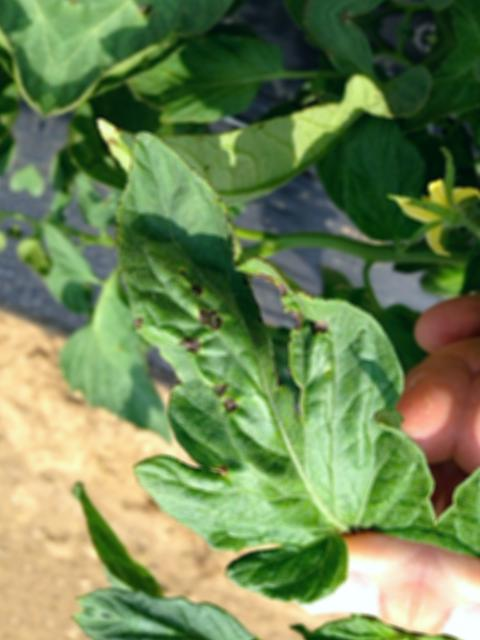Tomato leaf bacterial spot: (30, 120, 480, 634)
